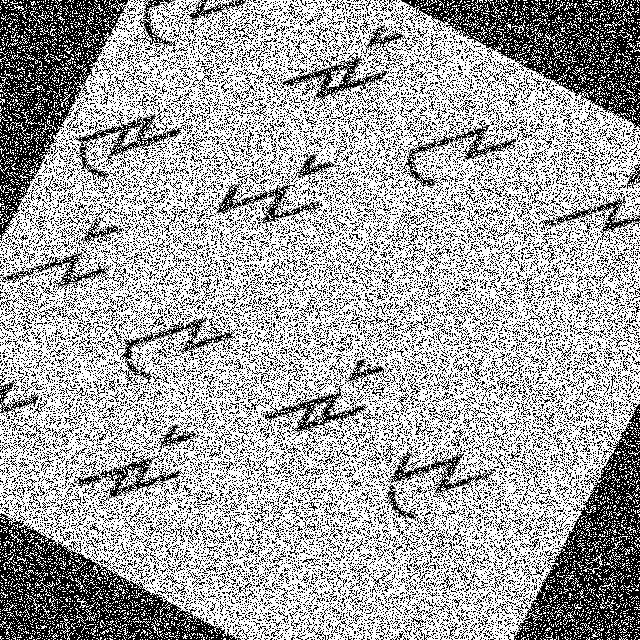lar: (0, 183, 140, 332), (537, 127, 639, 282)
law: (97, 274, 244, 414), (389, 86, 524, 224)
rar: (252, 315, 394, 465), (64, 388, 206, 538), (274, 0, 420, 134)
raw: (60, 78, 187, 206), (0, 341, 48, 474)
yar: (191, 109, 348, 262)
yaw: (366, 410, 511, 557), (126, 0, 256, 76)
